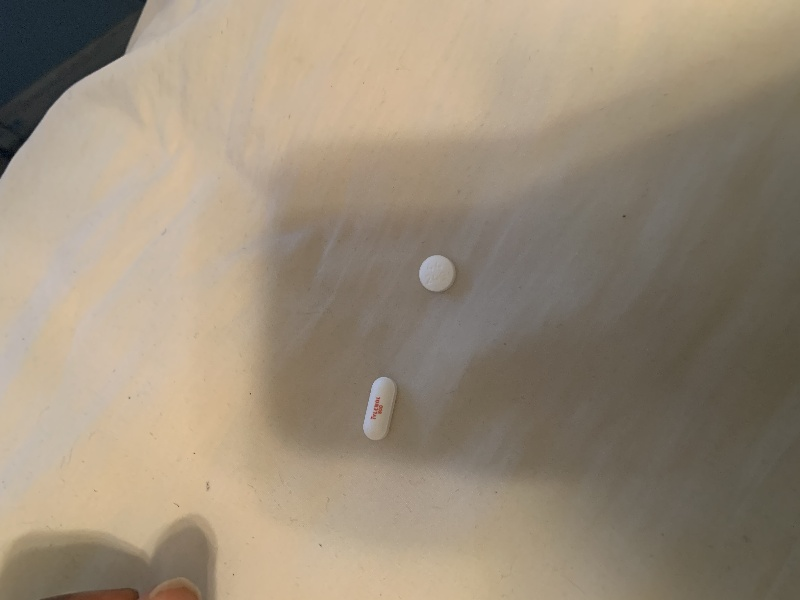Aspirin: (414, 251, 457, 295)
Tylenol: (358, 371, 400, 443)
